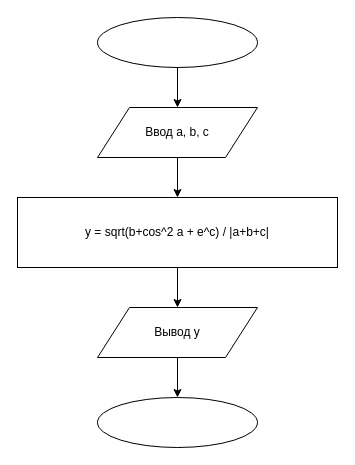
The diagram is 355 pixels wide and 465 high, and some of its shapes have lost their labels. Each missing label, with the centre of its shape:
"Конец" goes at (x=177, y=422).
"Начало" goes at (x=177, y=42).
